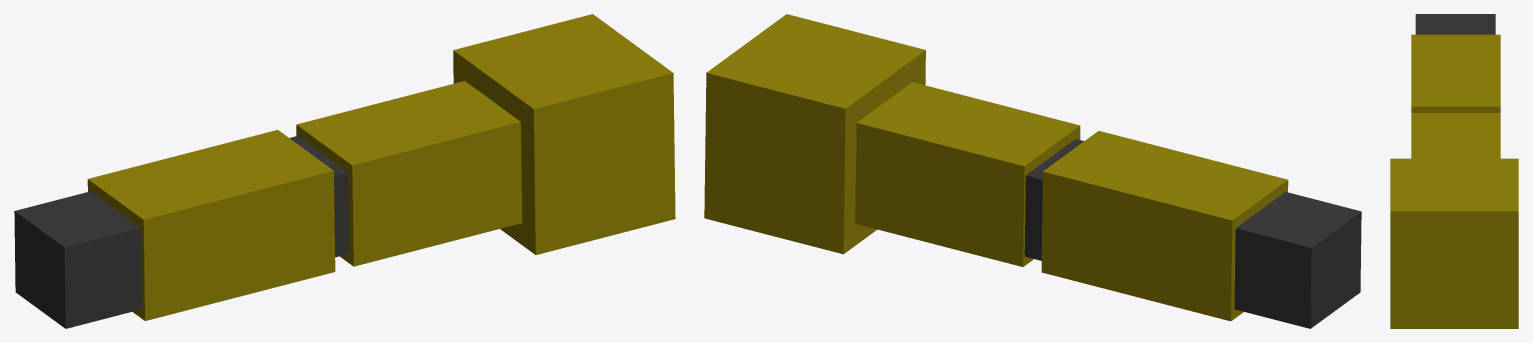
The model's file is RightArm.obj.
3 views of the same model, side by side, from view 1: azimuth 30°, elevation 25°; view 2: azimuth 150°, elevation 25°; view 3: azimuth 270°, elevation 25° (orthographic). The views are drawn at different scales.
Parts seen in each view (by area): view 1: RightArm; view 2: RightArm; view 3: RightArm.
Boxes of the visible parts, box(x1,y1,x2,y2) form: RightArm: box(14, 14, 675, 328); RightArm: box(704, 14, 1361, 328); RightArm: box(1390, 14, 1518, 328).
Bounding box in the file's own units: 1.53 × 0.3658 × 0.36.
Materials: 1 (1 with a texture image).
